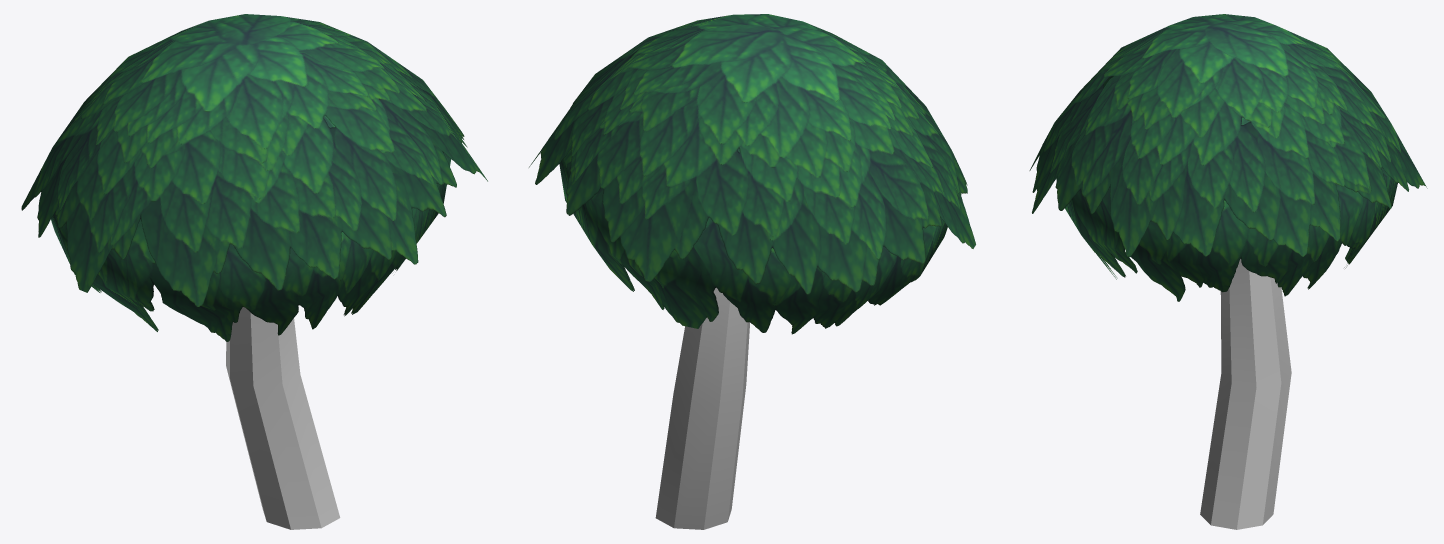
Rendered from Asset_Tree_C_01.fbx.
The picture shows the model from 3 angles, left to right: view 1: azimuth 30°, elevation 25°; view 2: azimuth 150°, elevation 25°; view 3: azimuth 270°, elevation 25°; orthographic projection. The views are drawn at different scales.
Parts seen in each view (by area): view 1: Tree_03_déplier2; view 2: Tree_03_déplier2; view 3: Tree_03_déplier2.
Boxes of the visible parts, x1,y1,x2,y2 form: Tree_03_déplier2: [21, 14, 487, 529]; Tree_03_déplier2: [529, 14, 975, 529]; Tree_03_déplier2: [1029, 14, 1427, 529].
Size of the model in its own units: 1389 by 1579 by 1289.
